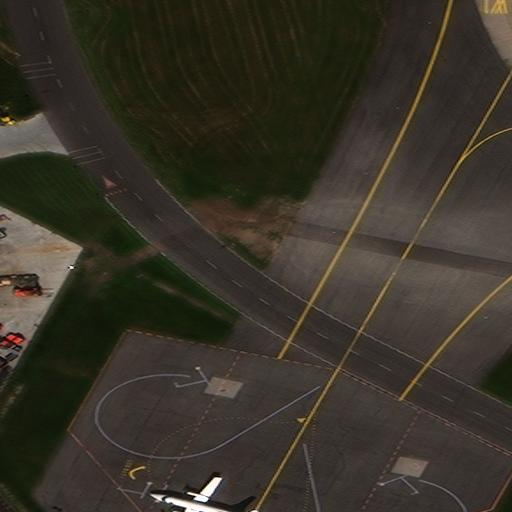Medium Civil Transport: (148, 475, 243, 512)
